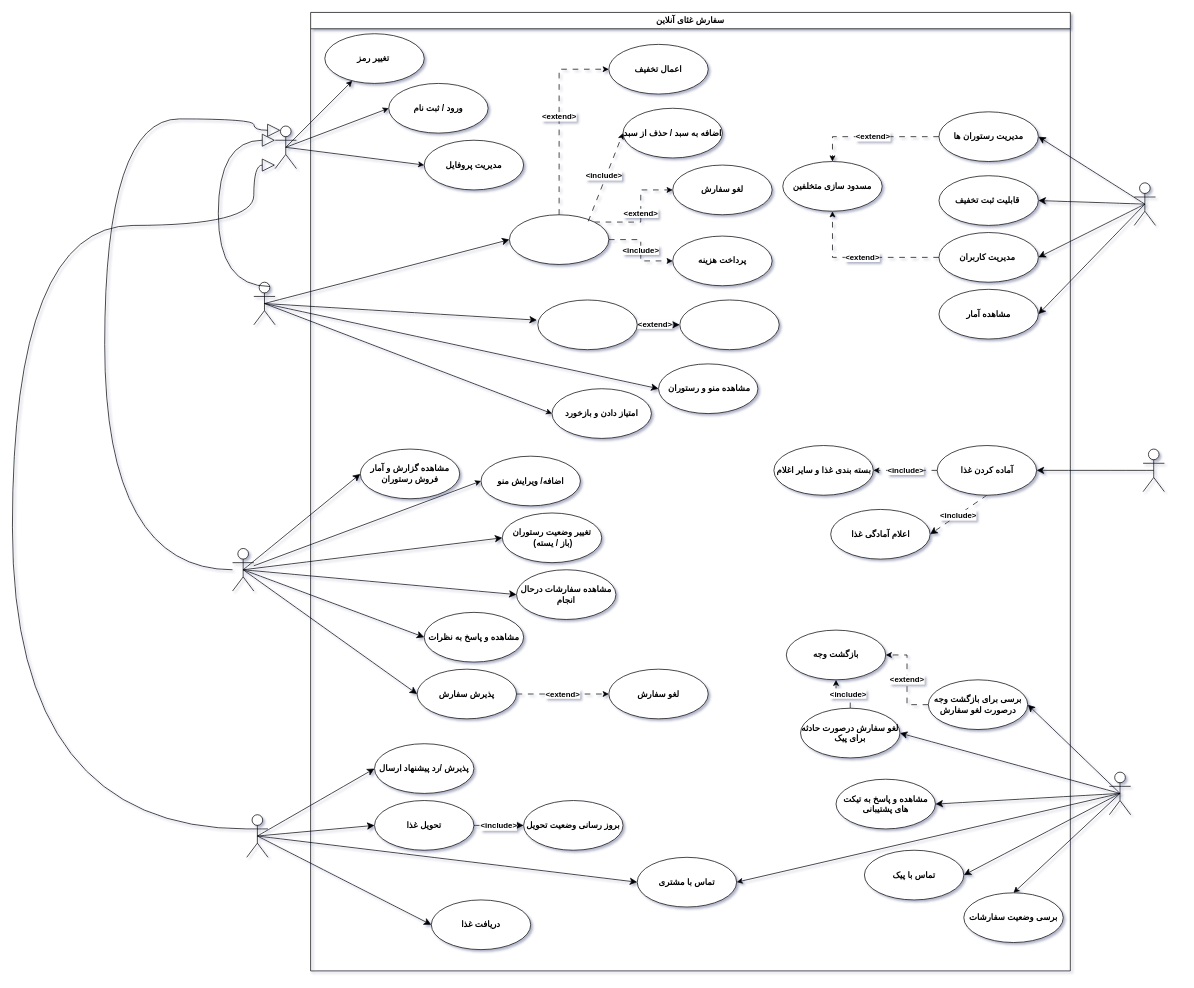
This 1194x988 diagram has some shape labels left out. The shapes that lost their labels are listed below. From the top down, each one's box as (x1, y1, x2, y2) in pixels, then its label:
(274, 125, 296, 169): کاربر
(1134, 182, 1156, 225): admin
(509, 214, 609, 264): سفارش
(253, 282, 275, 325): مشتری
(537, 299, 637, 350): مشاهده وضعیت سفارش
(679, 299, 779, 350): مشاهده تاریخچه سفارشها
(1142, 448, 1164, 492): staff / آشپز
(232, 548, 254, 591): مدیر رستوران
(1109, 771, 1131, 815): پشتیبانی
(246, 814, 268, 857): پیک
